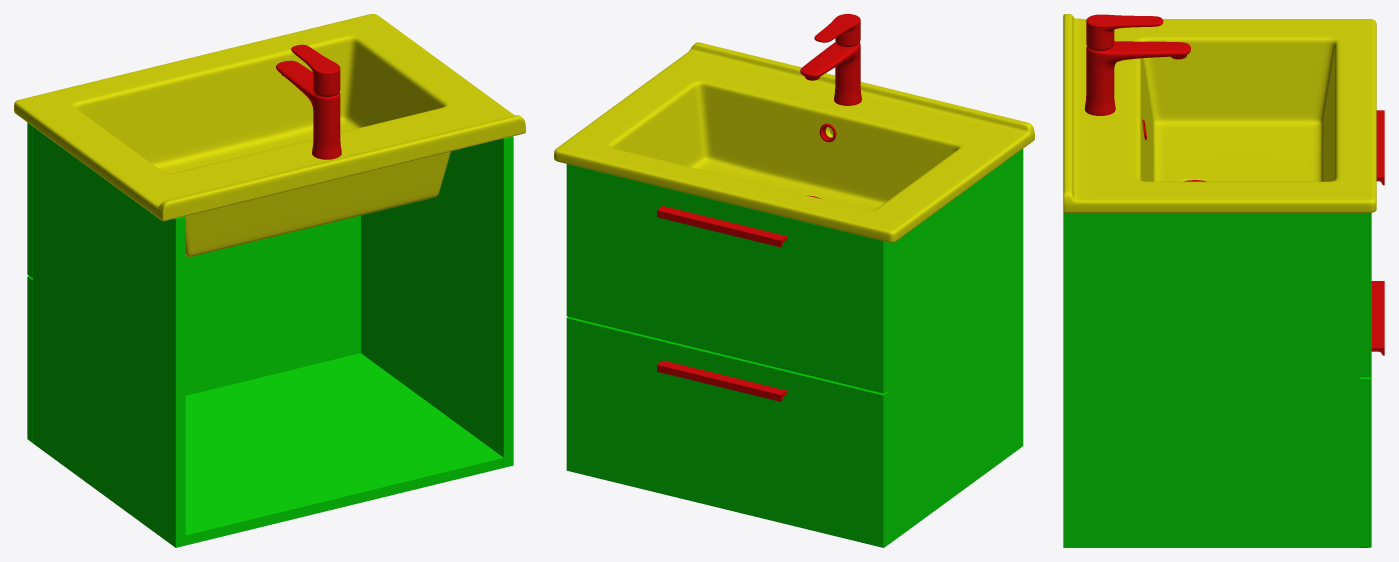
The model's file is Bathroom_Sink.fbx.
The picture shows the model from 3 angles, left to right: view 1: azimuth 30°, elevation 25°; view 2: azimuth 150°, elevation 25°; view 3: azimuth 270°, elevation 25°; orthographic projection. The views are drawn at different scales.
Visible parts, largest first — view 1: Bathroom_Sink; view 2: Bathroom_Sink; view 3: Bathroom_Sink.
Boxes of the visible parts, left/top/right/bottom form: Bathroom_Sink: left=14, top=14, right=525, bottom=547; Bathroom_Sink: left=554, top=14, right=1034, bottom=547; Bathroom_Sink: left=1063, top=14, right=1384, bottom=547.
Bounding box in the file's own units: 0.66 × 0.7399 × 0.487.
